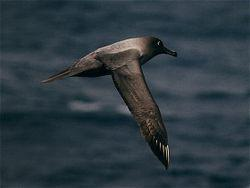003.Sooty_Albatross: (40, 35, 180, 171)
